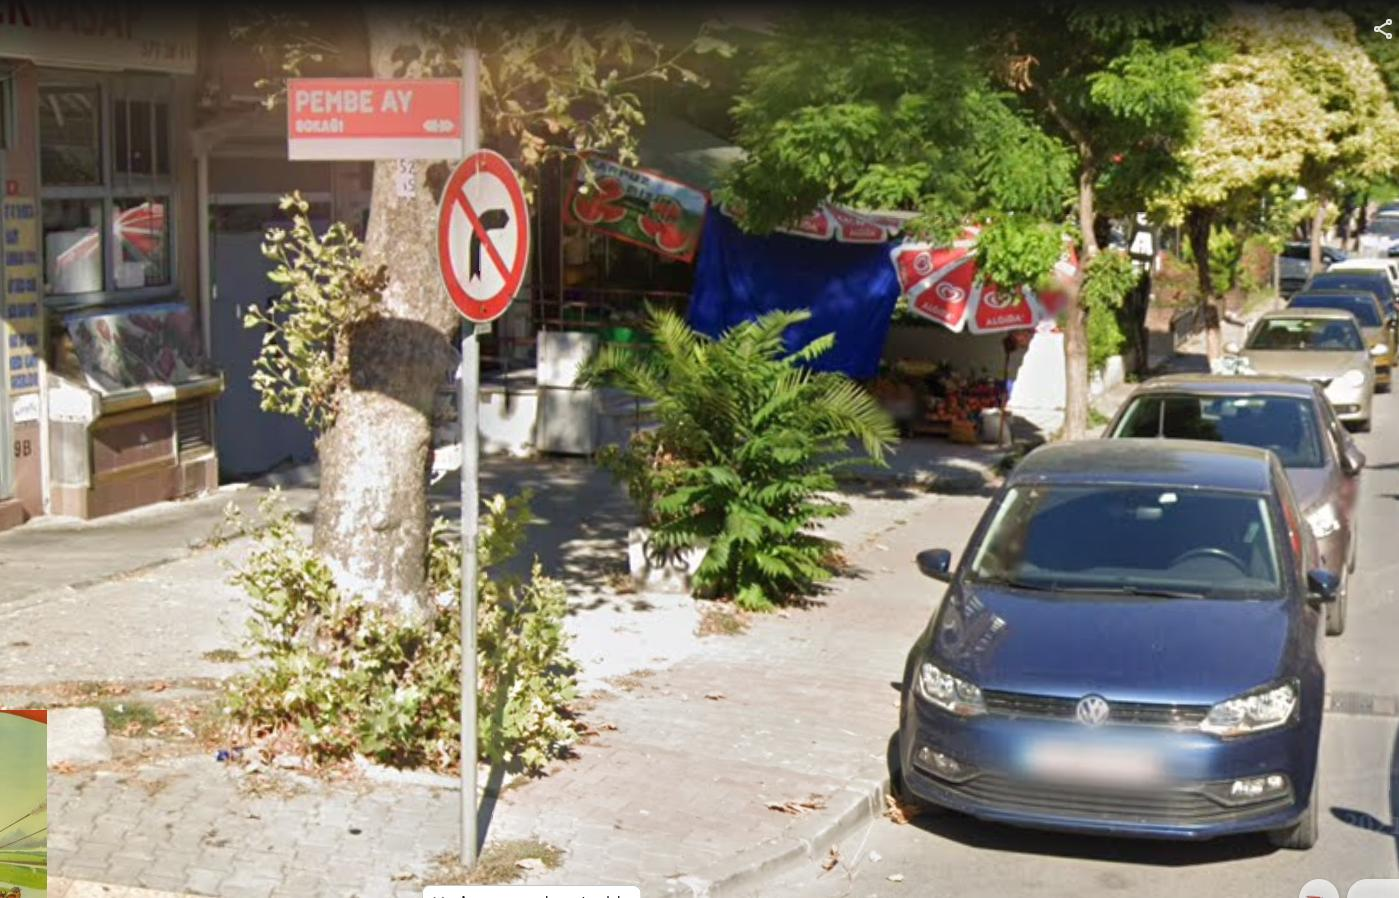rightturnsareforbidden: (443, 149, 530, 320)
